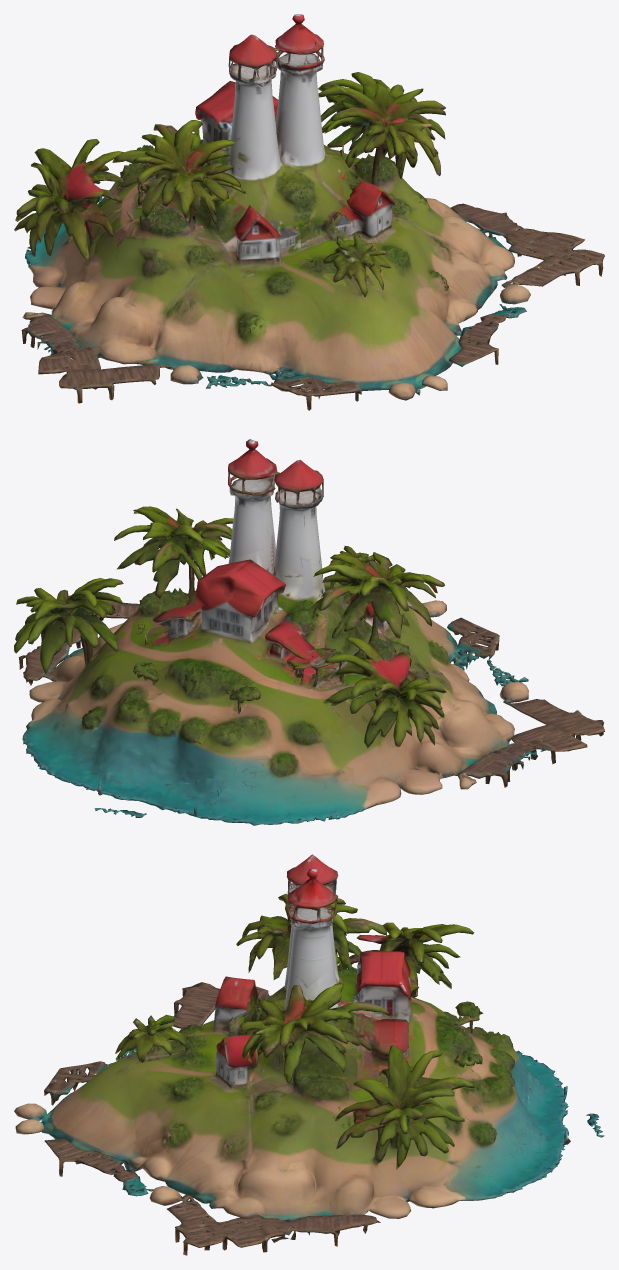
The model's file is island_2.glb.
3 views of the same model, one above another, from view 1: azimuth 30°, elevation 25°; view 2: azimuth 150°, elevation 25°; view 3: azimuth 270°, elevation 25° (orthographic).
Size of the model in its own units: 1.83 by 0.8782 by 1.72.
1 material, 1 textured.
